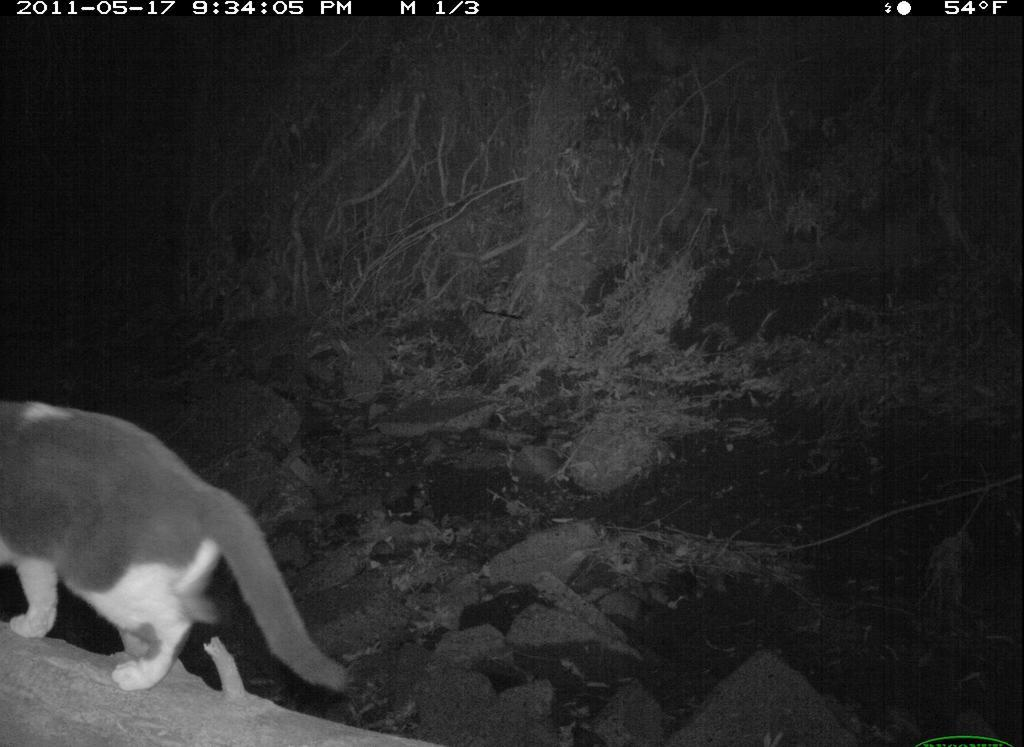cat: (8, 365, 374, 728)
